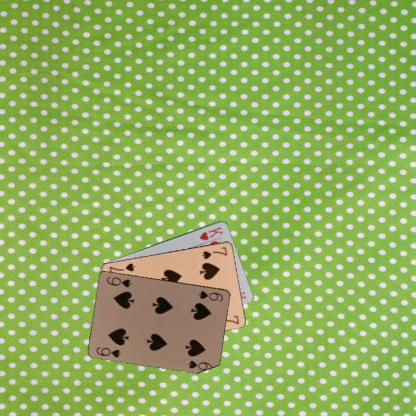6s: (94, 344, 123, 359), (197, 288, 224, 303)
7s: (199, 244, 228, 260)
Kh: (197, 223, 224, 242)
